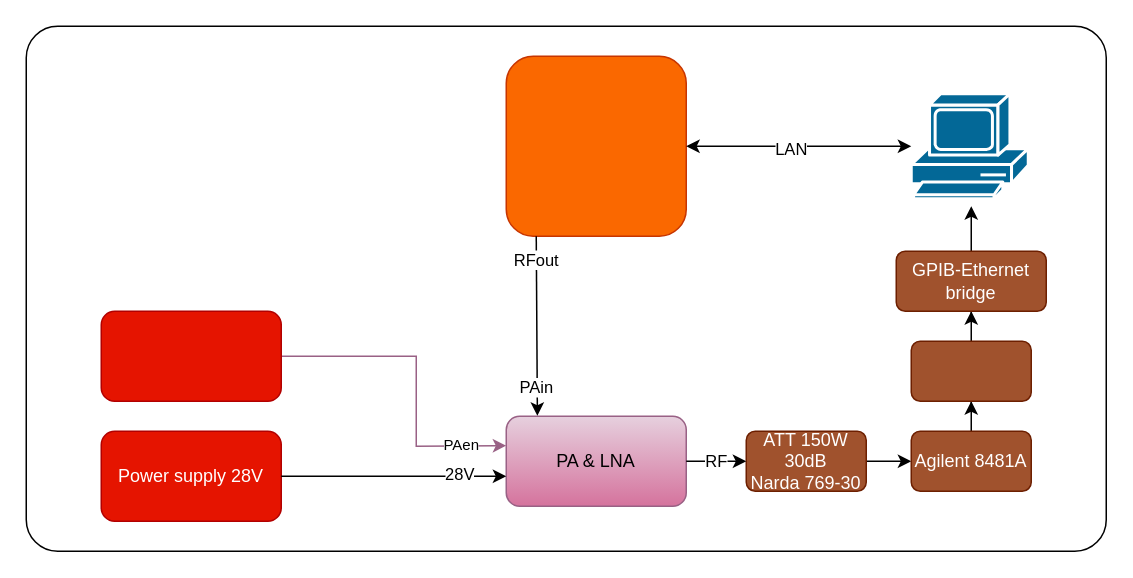
Some shapes in this 1133 by 578 pixel diagram are drawn without their labels. Here are the shapes that lost their labels. From the top down, the centre of each, then its label:
At pixel 595 145: "Anritsu MS2692A (Option 020)".
At pixel 190 355: "Power supply 3V".
At pixel 970 370: "Agilent E4419".
